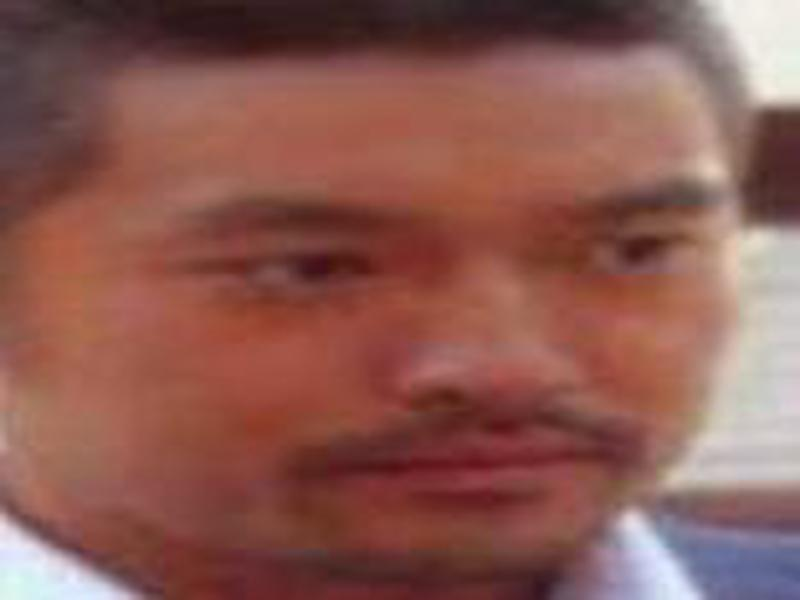without_mask: (16, 50, 740, 582)
